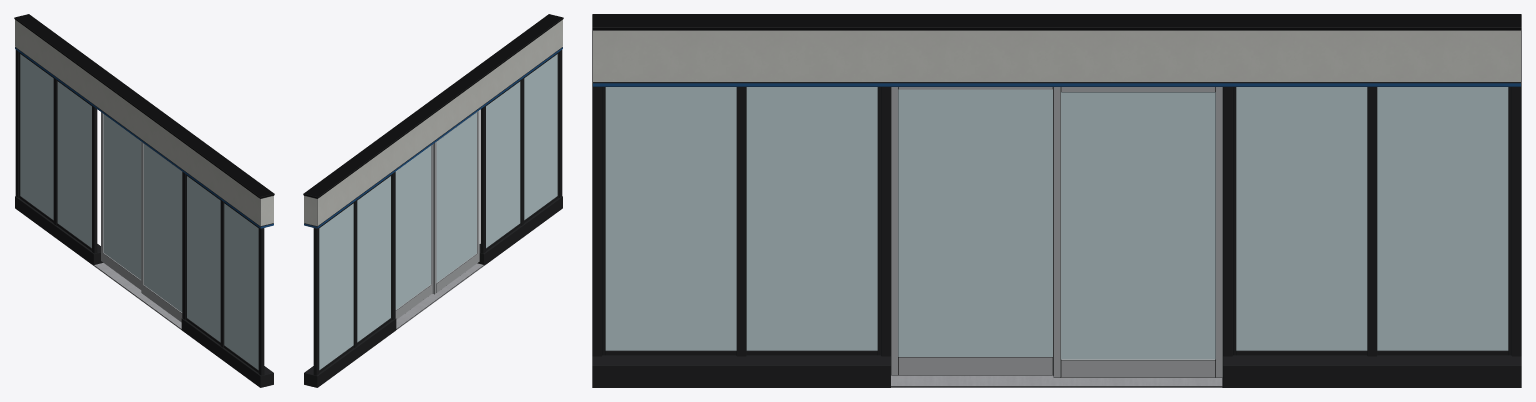
File: gteki_platform_screen_door_l5600.glb
3 views of the same model, side by side, from view 1: azimuth 30°, elevation 25°; view 2: azimuth 150°, elevation 25°; view 3: azimuth 270°, elevation 25° (orthographic). The views are drawn at different scales.
Visible parts, largest first — view 1: VIS_glass, VIS_header, VIS_frame, VIS_base; view 2: VIS_glass, VIS_header, VIS_frame, VIS_base; view 3: VIS_glass, VIS_header, VIS_frame, VIS_base.
Part boxes in pixels (x1=…): VIS_glass: x1=20, y1=54, x2=258, y2=369; VIS_header: x1=14, y1=14, x2=274, y2=228; VIS_frame: x1=15, y1=50, x2=264, y2=375; VIS_base: x1=15, y1=196, x2=273, y2=387; VIS_glass: x1=319, y1=54, x2=557, y2=369; VIS_header: x1=303, y1=14, x2=563, y2=228; VIS_frame: x1=313, y1=50, x2=562, y2=375; VIS_base: x1=304, y1=196, x2=562, y2=387; VIS_glass: x1=605, y1=87, x2=1508, y2=359; VIS_header: x1=592, y1=14, x2=1521, y2=86; VIS_frame: x1=592, y1=86, x2=1521, y2=377; VIS_base: x1=592, y1=355, x2=1521, y2=387.
Size of the model in its own units: 0.196 by 2.4 by 5.6.
7 materials, 2 textured.
